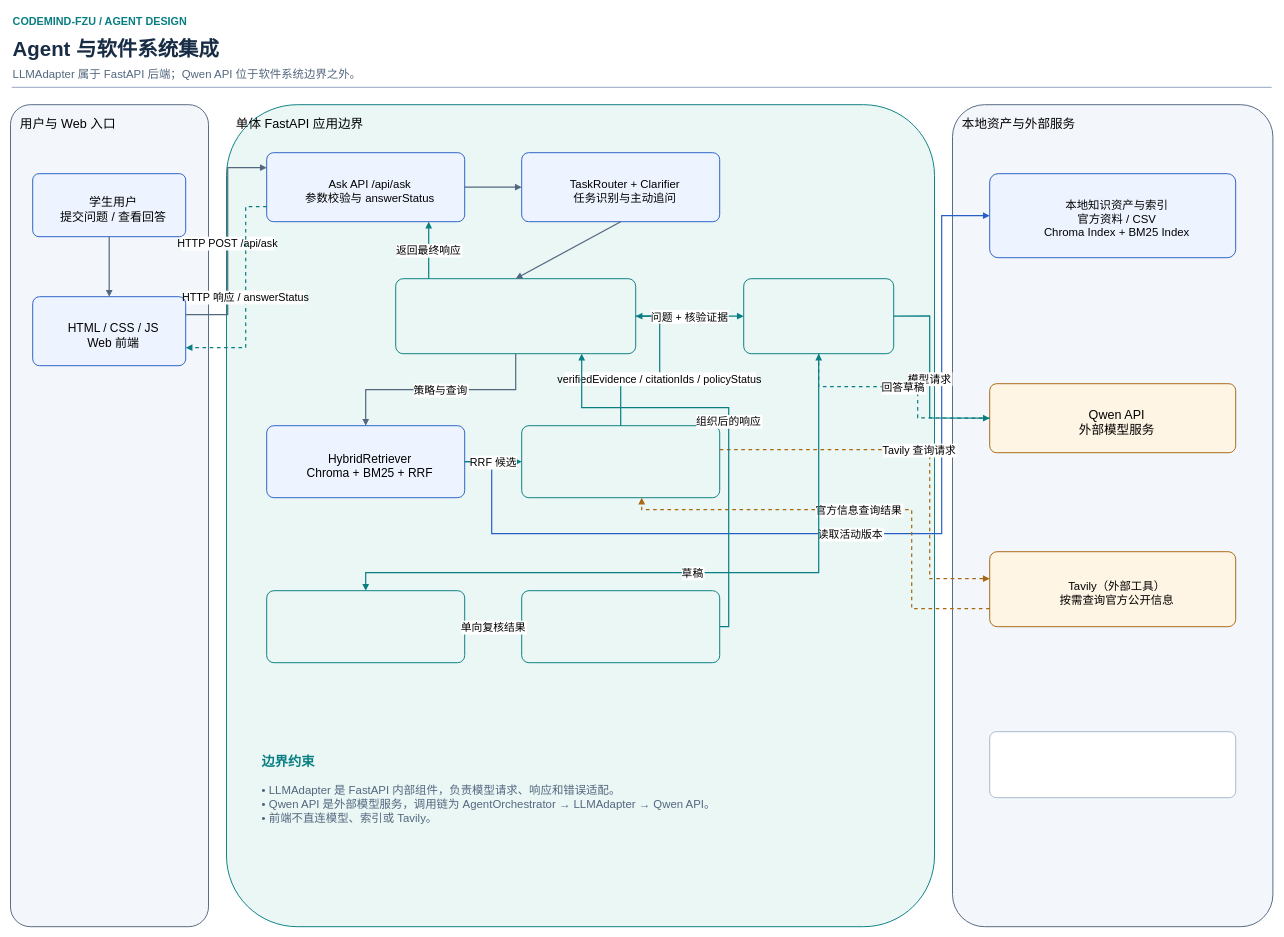
This 1284x937 diagram has some shape labels left out. Each missing label, with the centre of its shape:
"AgentOrchestrator 受控任务编排" goes at point 515,316.
"AnswerComposer 组织最终响应" goes at point 620,626.
"AnswerVerifier 生成后回答复核" goes at point 365,626.
"EvidenceVerifier 生成前证据核验" goes at point 620,461.
"LLMAdapter 内部模型适配组件" goes at point 818,316.
"质量保障 离线测试、日志与失败降级" goes at point 1112,764.
